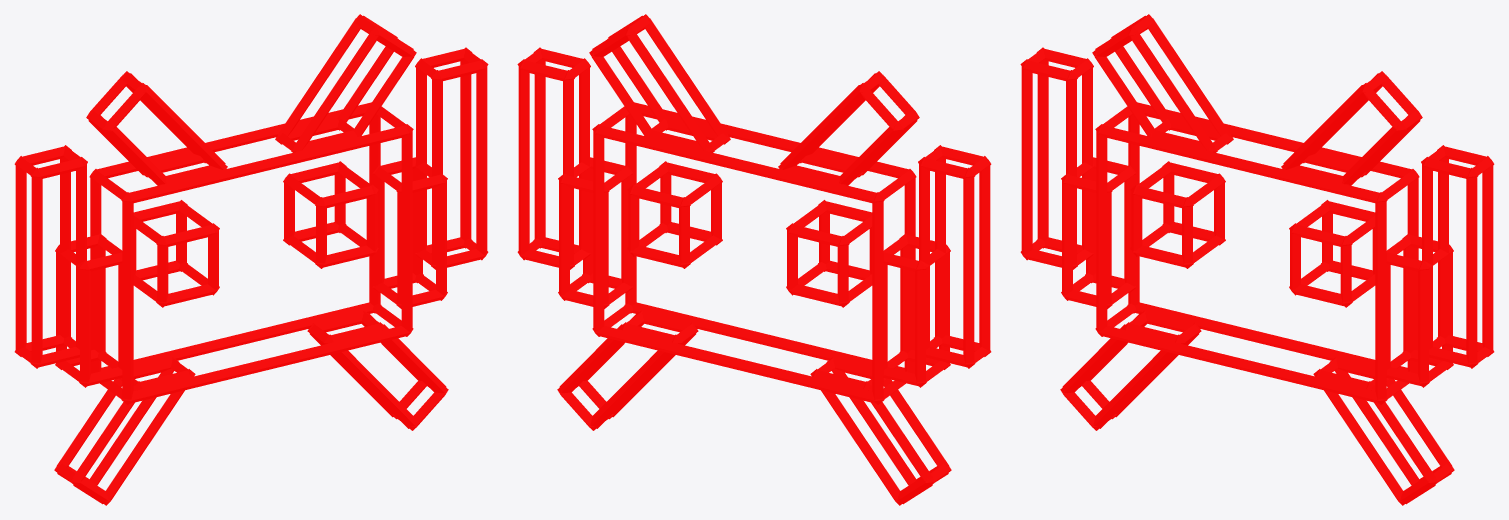
File: Invader_Basic.FBX
3 views of the same model, side by side, from view 1: azimuth 30°, elevation 25°; view 2: azimuth 150°, elevation 25°; view 3: azimuth 330°, elevation 25° (orthographic).
Parts seen in each view (by area): view 1: Invader_Basic; view 2: Invader_Basic; view 3: Invader_Basic.
Part boxes in pixels (bbox=[...]): Invader_Basic: bbox=[14, 14, 488, 505]; Invader_Basic: bbox=[517, 14, 991, 505]; Invader_Basic: bbox=[1020, 14, 1494, 505].
Size of the model in its own units: 135 by 116 by 20.25.
